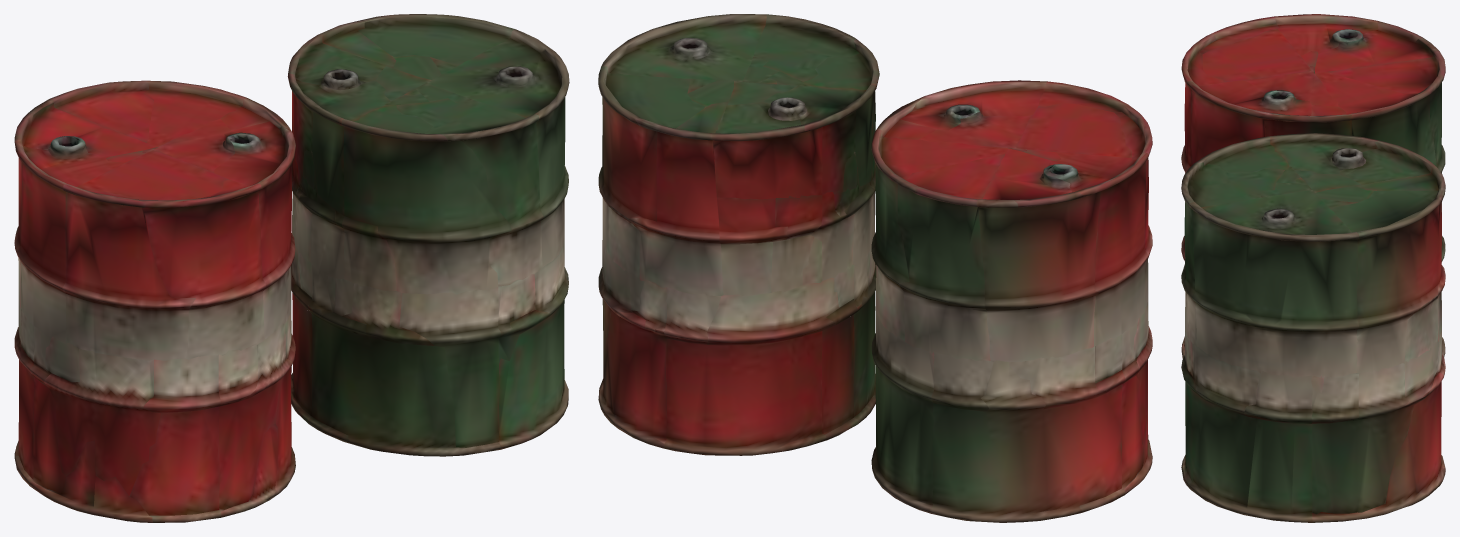
Rendered from veh-j-drum.glb.
3 renders of one model, left to right at view 1: azimuth 30°, elevation 25°; view 2: azimuth 150°, elevation 25°; view 3: azimuth 270°, elevation 25°, orthographic. The views are drawn at different scales.
Visible parts, largest first — view 1: tripo_node_6762c5f9-7990-4ea9-9bf1-1c50ca826e00; view 2: tripo_node_6762c5f9-7990-4ea9-9bf1-1c50ca826e00; view 3: tripo_node_6762c5f9-7990-4ea9-9bf1-1c50ca826e00.
Part boxes in pixels (<box>): tripo_node_6762c5f9-7990-4ea9-9bf1-1c50ca826e00: <box>14,14,569,522</box>; tripo_node_6762c5f9-7990-4ea9-9bf1-1c50ca826e00: <box>598,14,1152,522</box>; tripo_node_6762c5f9-7990-4ea9-9bf1-1c50ca826e00: <box>1181,14,1445,522</box>.
Bounding box in the file's own units: 0.9796 × 0.5894 × 0.4895.
Materials: 1 (1 with a texture image).
